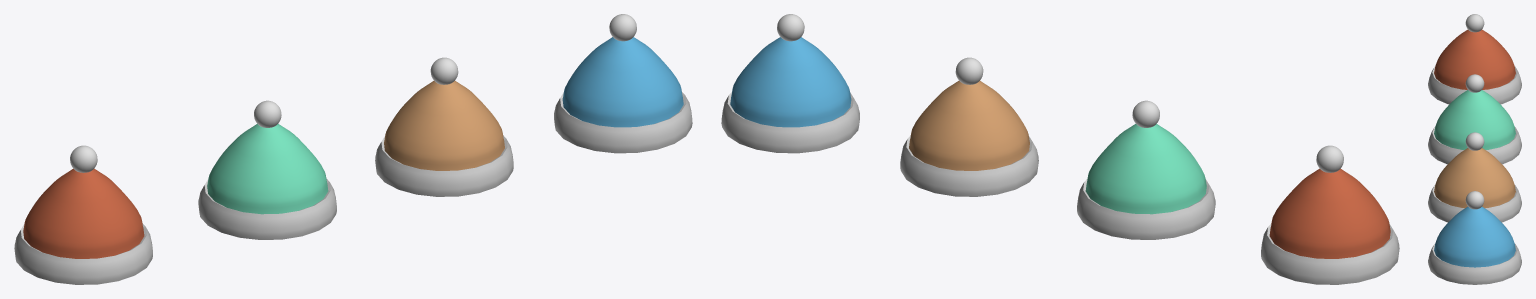
The model's file is Tuque.fbx.
3 views of the same model, side by side, from view 1: azimuth 30°, elevation 25°; view 2: azimuth 150°, elevation 25°; view 3: azimuth 270°, elevation 25° (orthographic). The views are drawn at different scales.
Parts seen in each view (by area): view 1: TuqueRouge, TuqueBleu, TuqueOrange, TuqueVerte; view 2: TuqueRouge, TuqueBleu, TuqueOrange, TuqueVerte; view 3: TuqueBleu, TuqueRouge, TuqueOrange, TuqueVerte.
Boxes of the visible parts, <box> form: TuqueRouge: <box>14,145,152,284</box>; TuqueBleu: <box>554,14,692,153</box>; TuqueOrange: <box>375,57,513,196</box>; TuqueVerte: <box>198,100,336,239</box>; TuqueRouge: <box>1261,145,1399,284</box>; TuqueBleu: <box>721,14,859,153</box>; TuqueOrange: <box>900,57,1038,196</box>; TuqueVerte: <box>1077,100,1215,239</box>; TuqueBleu: <box>1428,191,1521,284</box>; TuqueRouge: <box>1428,14,1521,104</box>; TuqueOrange: <box>1428,132,1521,222</box>; TuqueVerte: <box>1428,74,1521,164</box>.
Size of the model in its own units: 10.46 by 1.65 by 1.91.
